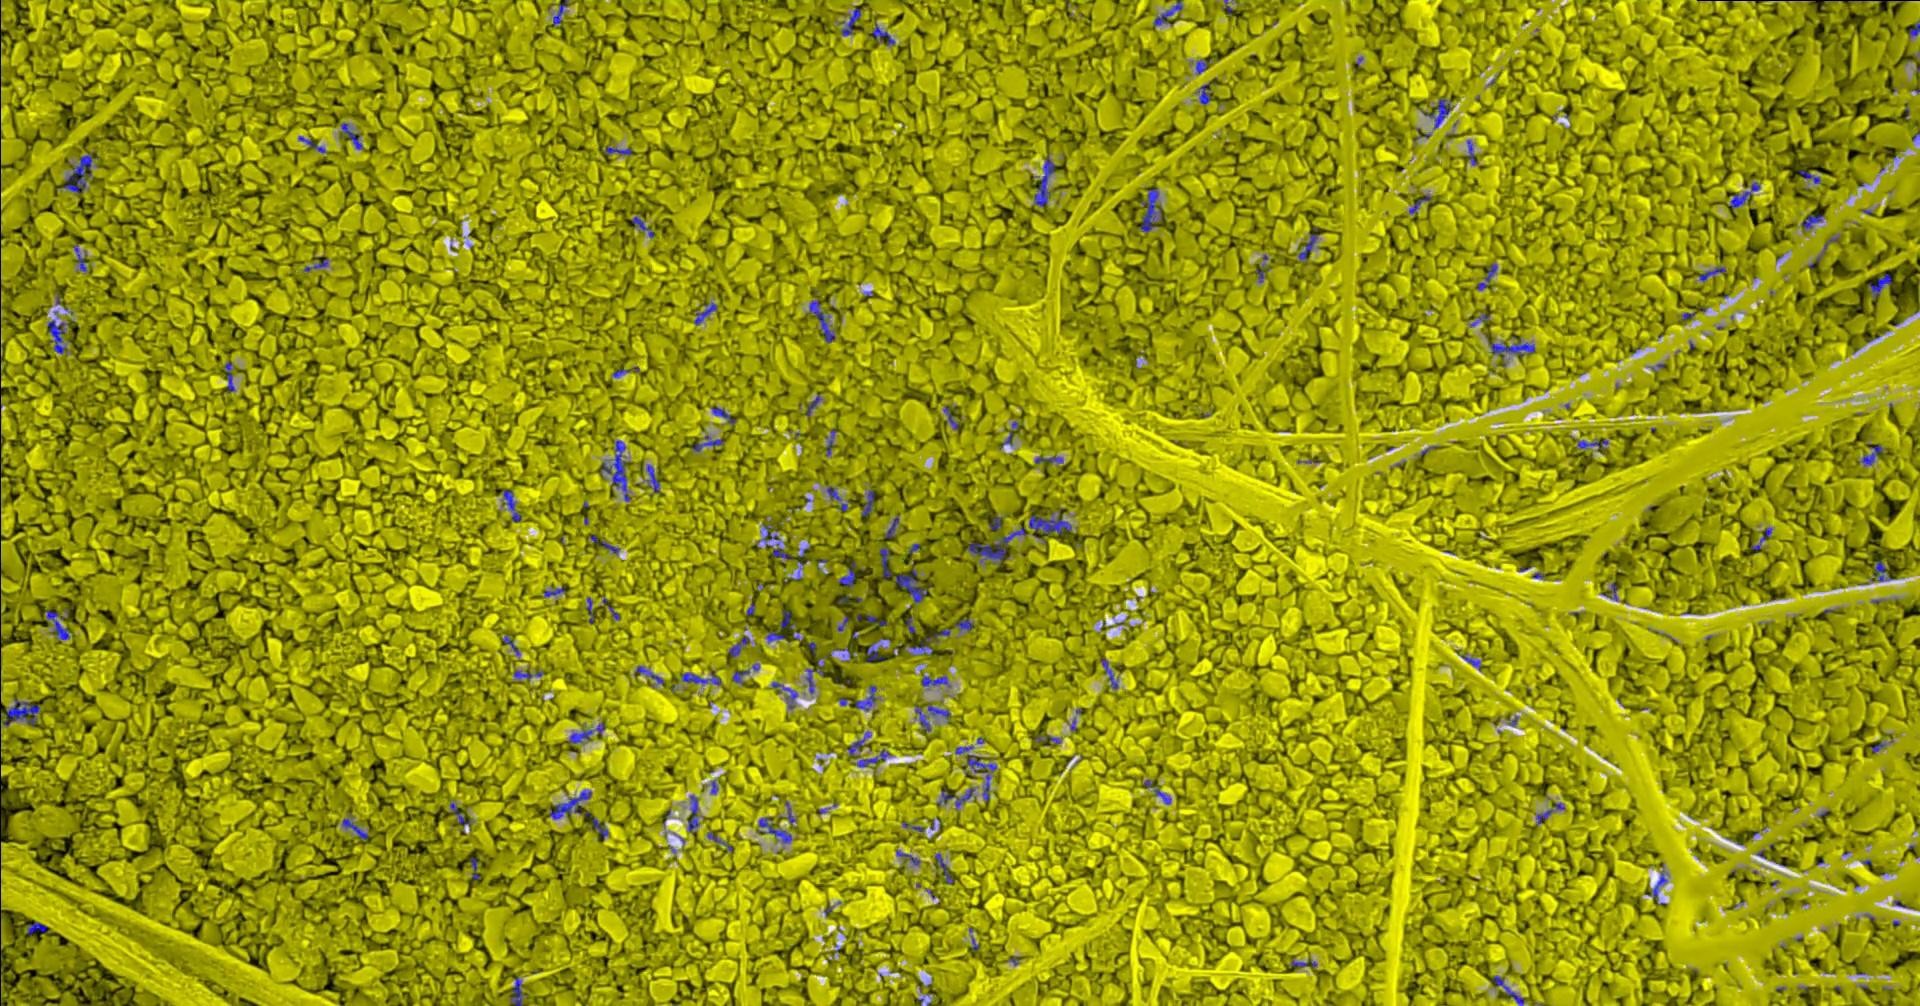ant: (549, 789, 608, 837), (879, 546, 927, 602), (955, 746, 996, 801), (968, 526, 1025, 561), (599, 439, 629, 500), (63, 152, 97, 194), (0, 696, 39, 727), (1032, 156, 1055, 207), (762, 525, 792, 561), (1139, 188, 1164, 231), (809, 298, 834, 342), (909, 627, 949, 654), (1490, 337, 1534, 359), (838, 685, 876, 710), (1421, 98, 1451, 128), (1492, 976, 1524, 1005), (757, 815, 791, 842), (1029, 514, 1070, 533), (569, 721, 604, 743), (936, 788, 975, 807), (1153, 0, 1182, 25), (1730, 182, 1759, 207), (47, 319, 69, 353), (44, 608, 69, 639), (771, 681, 797, 708), (1867, 273, 1892, 298), (846, 730, 871, 754), (1298, 227, 1317, 259), (841, 8, 862, 36), (805, 661, 823, 694), (780, 608, 799, 639), (340, 122, 362, 149), (1476, 263, 1497, 290), (342, 818, 368, 840), (731, 663, 759, 683), (503, 489, 521, 521), (589, 533, 618, 553), (690, 434, 723, 451), (856, 749, 889, 766), (1100, 658, 1117, 688), (999, 420, 1018, 448), (870, 23, 894, 44), (1644, 873, 1666, 897), (634, 666, 663, 683), (935, 854, 952, 883), (681, 671, 720, 683), (297, 135, 325, 152), (695, 302, 717, 324), (450, 801, 470, 826), (706, 832, 731, 851), (838, 560, 856, 587), (631, 216, 653, 238), (1751, 527, 1771, 550), (728, 635, 749, 655), (711, 406, 735, 424), (1872, 560, 1892, 580), (865, 641, 885, 662), (1408, 194, 1430, 213), (927, 704, 950, 721), (687, 795, 698, 831), (895, 848, 919, 865), (1197, 79, 1213, 104), (1577, 439, 1608, 452), (1862, 445, 1882, 464), (72, 244, 86, 271), (1698, 265, 1724, 279), (552, 0, 568, 24), (805, 394, 822, 415), (646, 464, 659, 492), (510, 977, 523, 1005), (856, 614, 886, 625), (303, 257, 328, 271), (916, 706, 930, 730), (223, 361, 234, 392), (1801, 213, 1823, 227), (943, 406, 957, 429), (884, 516, 898, 539), (861, 489, 872, 516), (1798, 169, 1820, 183), (513, 669, 542, 680), (1465, 140, 1477, 164), (952, 617, 974, 630), (825, 428, 836, 455), (1153, 788, 1171, 803), (27, 921, 47, 934), (1535, 809, 1552, 824), (919, 676, 947, 685), (585, 596, 594, 622), (1195, 57, 1210, 72), (601, 146, 631, 154), (825, 485, 841, 500), (543, 587, 565, 597), (470, 857, 480, 879), (1034, 456, 1062, 464), (766, 631, 785, 641), (1035, 735, 1060, 743), (1291, 959, 1316, 967), (988, 516, 1001, 530), (1909, 20, 1919, 37)
